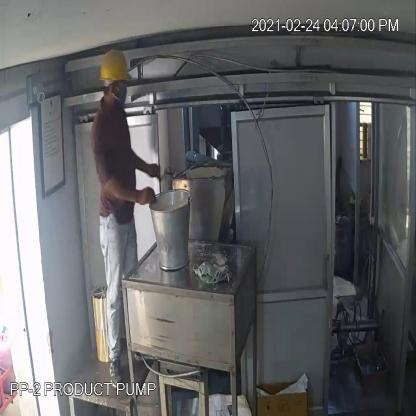helmet: (99, 45, 139, 98)
